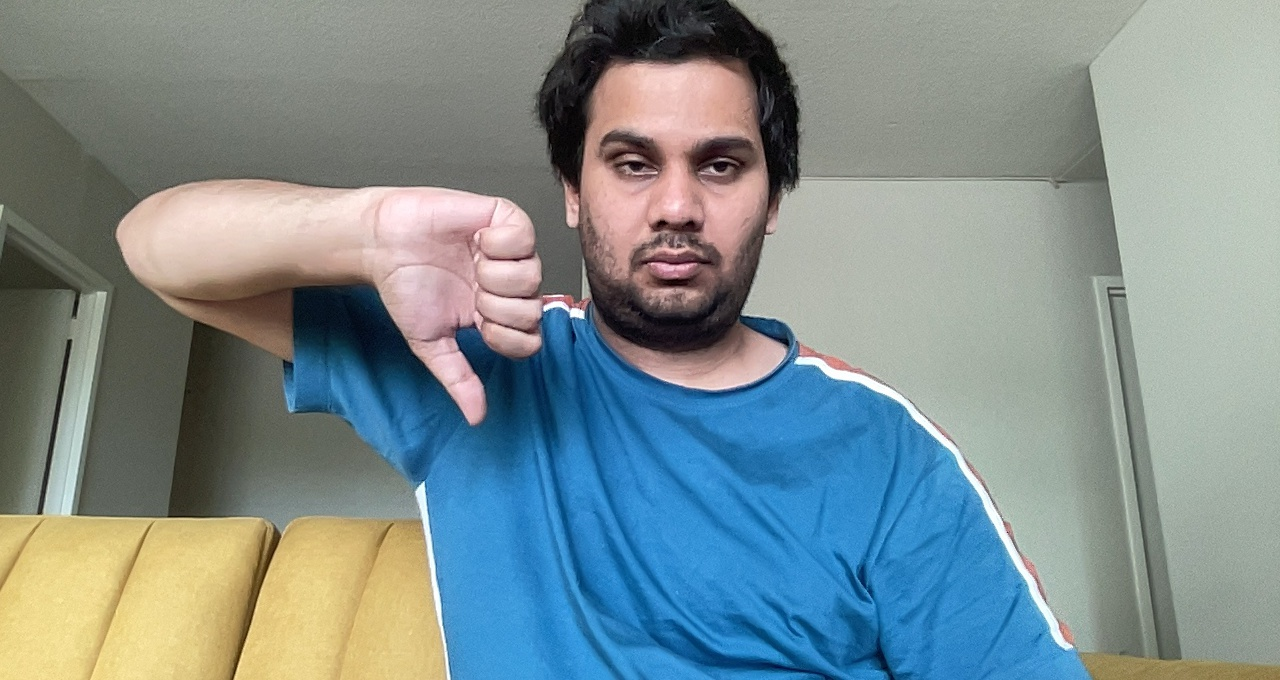thumbsdown: (369, 172, 560, 428)
